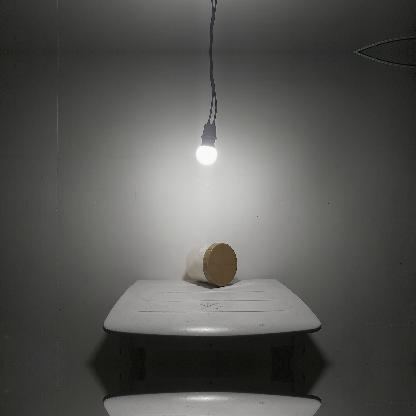Lady-s-Choice: (185, 242, 237, 286)
